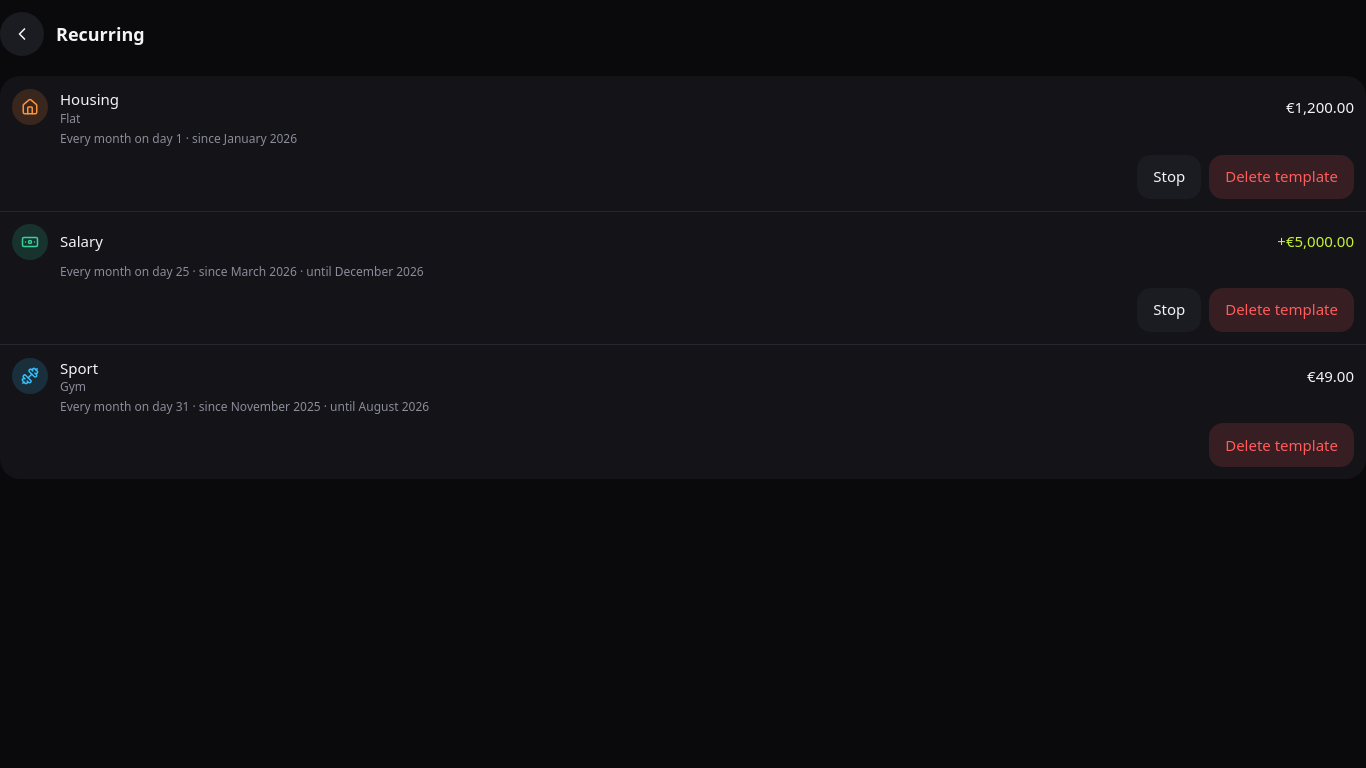
RecurringPage › Delete removes the template at once, without asking or waiting, and offers Undo
Click the button with aria-label "Delete template Housing (Flat)". click: x=1282, y=176
box: [1209,154,1354,198]
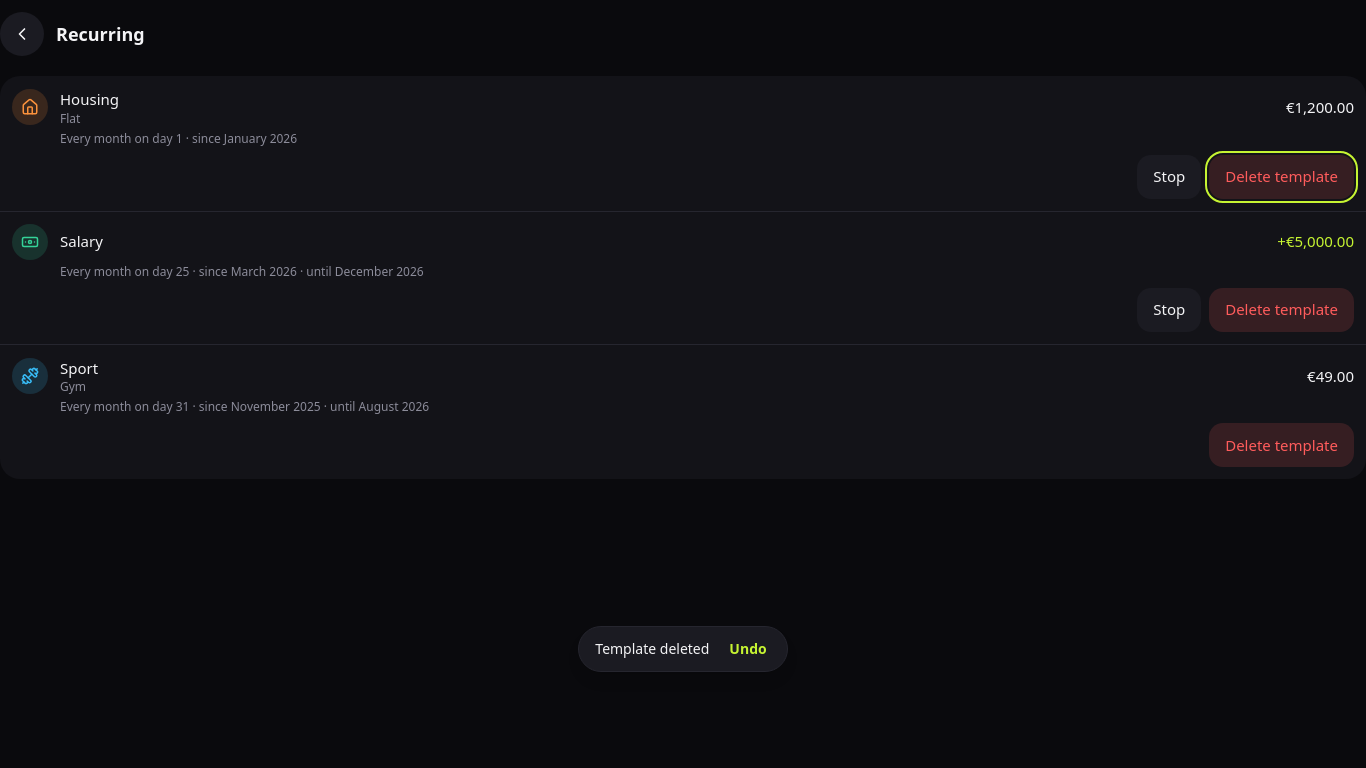
Check: the message shows "Template deleted", box [595,639,709,658]
Check: the button "Undo" is shown, box [713,627,783,671]
